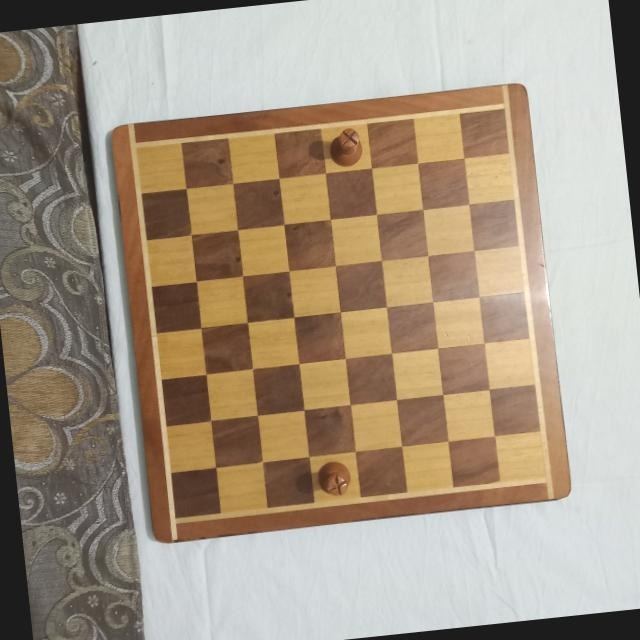white-rook: (324, 125, 364, 171), (314, 458, 353, 497)
